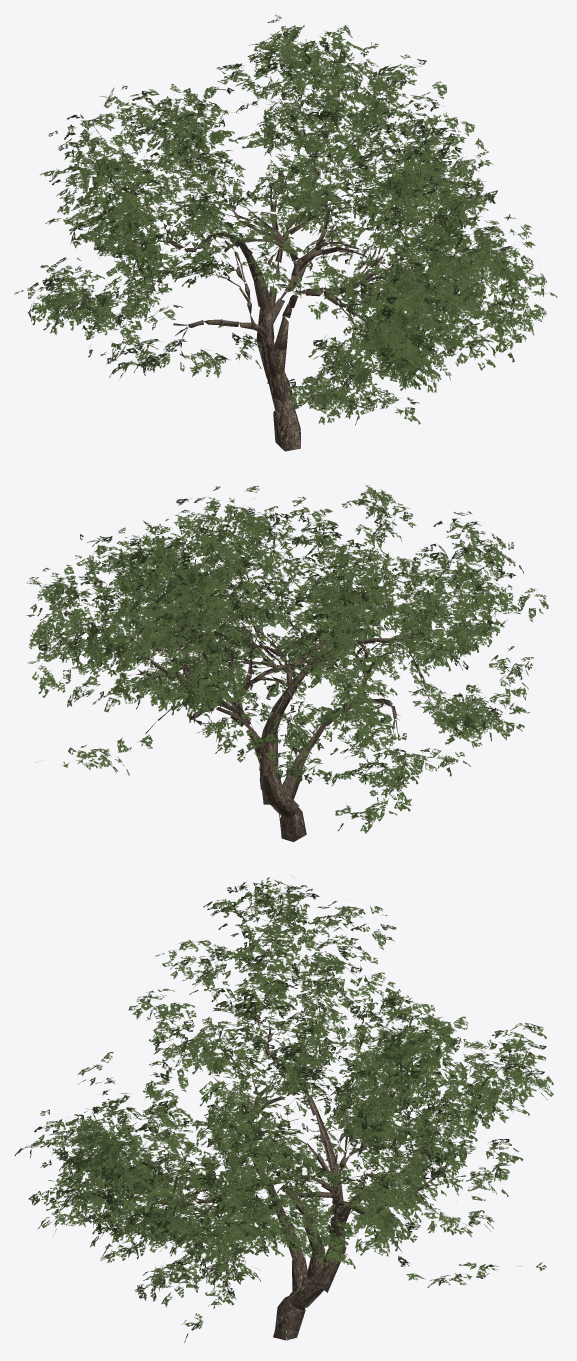
Rendered from liveoak_c.glb.
The picture shows the model from 3 angles, top to bottom: view 1: azimuth 30°, elevation 25°; view 2: azimuth 150°, elevation 25°; view 3: azimuth 270°, elevation 25°; orthographic projection. The views are drawn at different scales.
Parts seen in each view (by area): view 1: foliage.002_w; view 2: foliage.002_w; view 3: foliage.002_w.
Boxes of the visible parts, x1,y1,x2,y2 form: foliage.002_w: (14,14,557,451); foliage.002_w: (26,485,548,841); foliage.002_w: (14,877,553,1342).
Bounding box in the file's own units: 16.08 × 11.03 × 14.81.
Materials: 2 (2 with a texture image).
